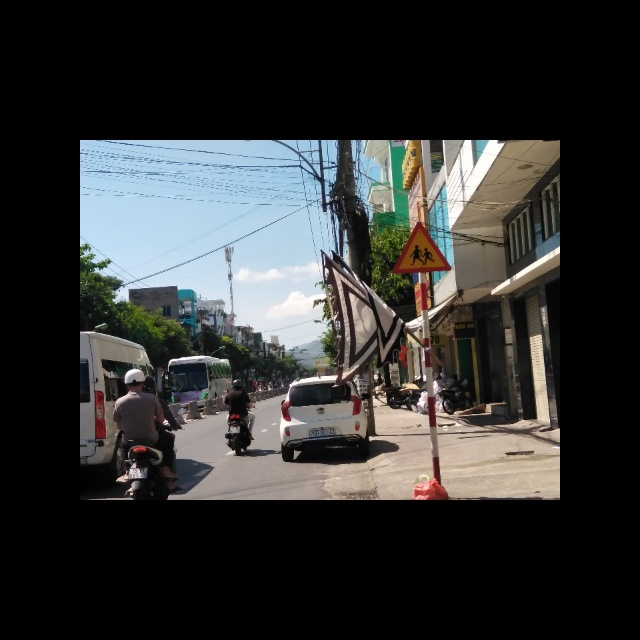Trẻ em ngang qua: (390, 220, 454, 274)
